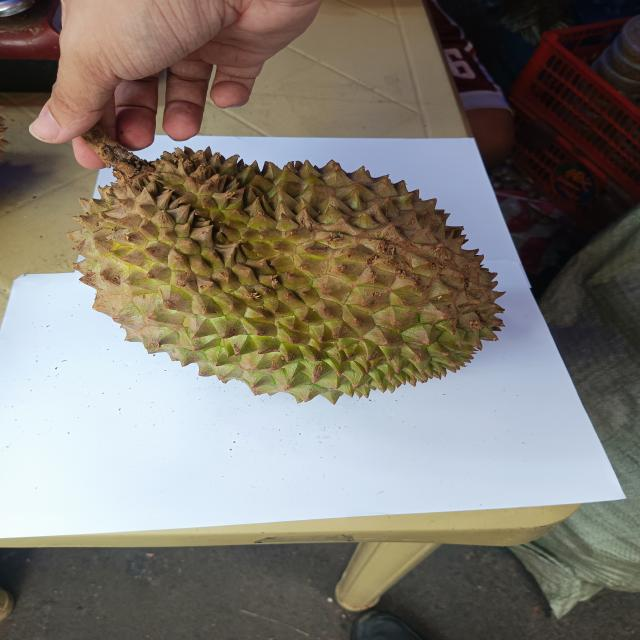mature: (69, 132, 503, 403)
